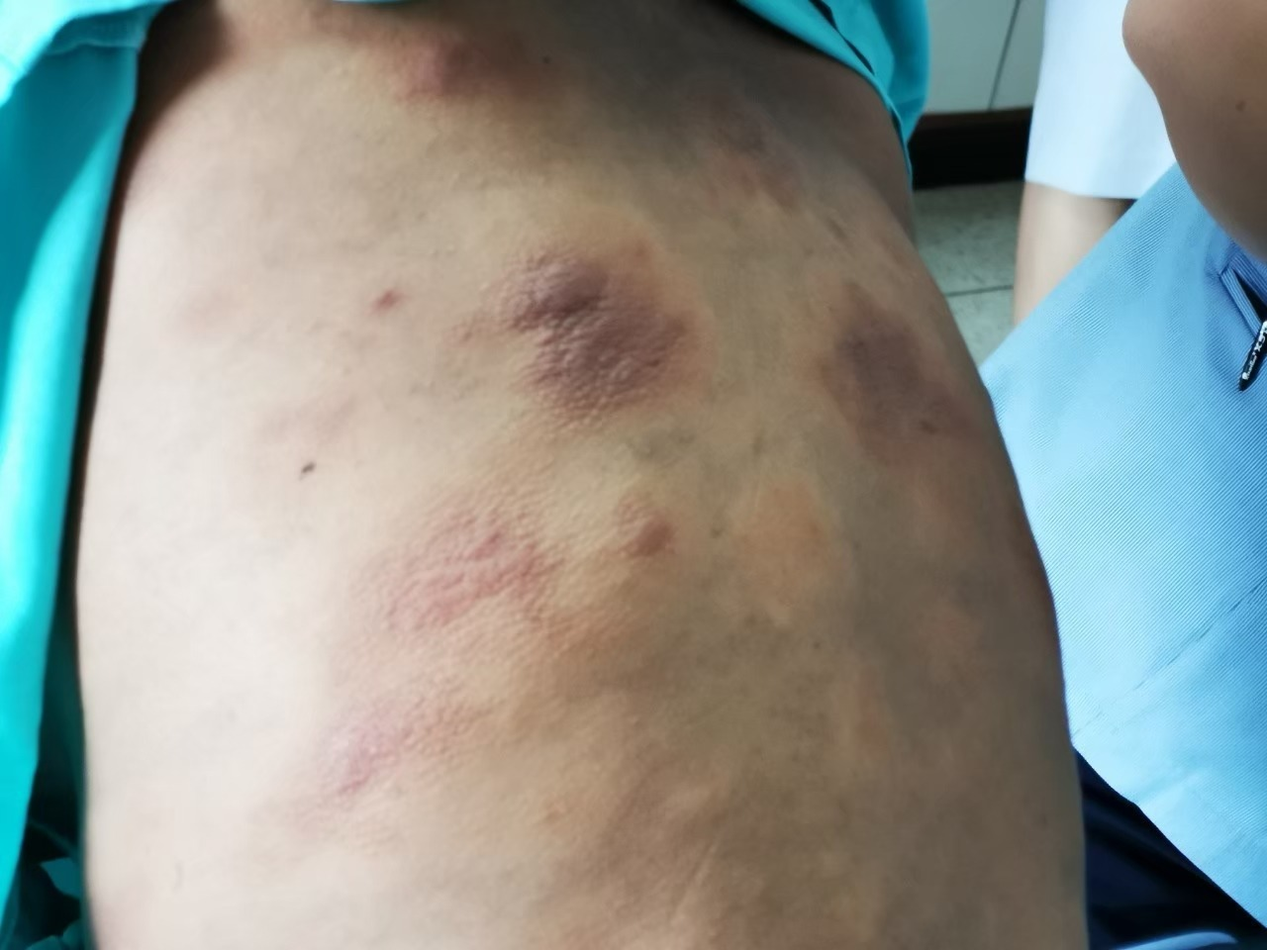Leprosy: (468, 231, 728, 438), (824, 585, 1009, 813), (356, 473, 573, 651), (310, 662, 510, 814), (797, 260, 946, 456), (709, 448, 866, 633), (598, 482, 684, 566), (748, 141, 815, 222), (356, 280, 410, 318)
